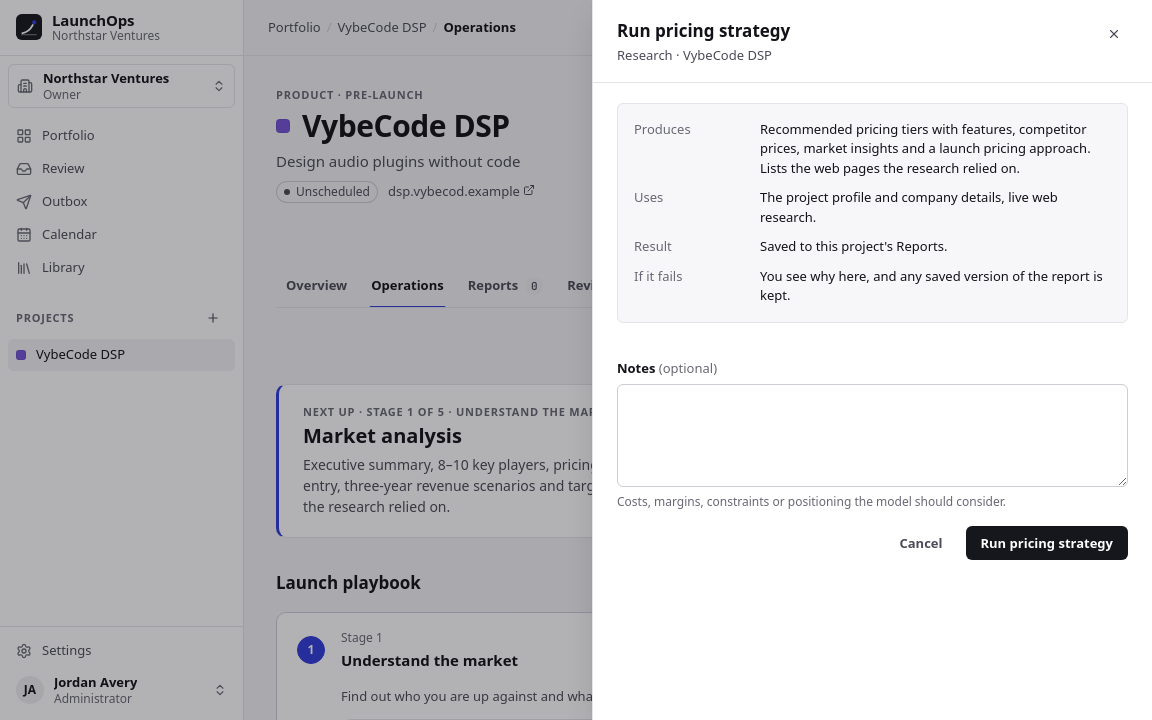
Test: When the AI budget is used up › says why a report wasn't generated, in the run sheet and a notification
What coordinates should you click on to do the following:
click the button "Run pricing strategy"
I would click on:
 (1047, 543)
Its box is [966,526,1128,560].
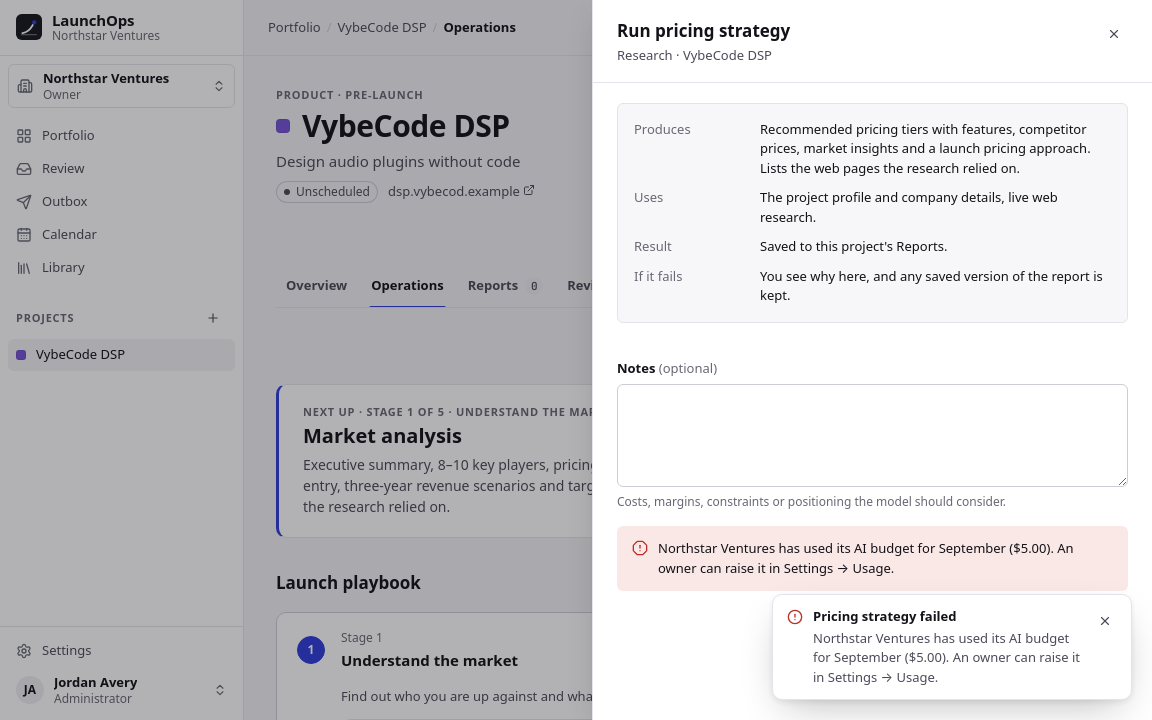
expect the text "Pricing strategy failed" is shown: met, box [813,607,956,625]
